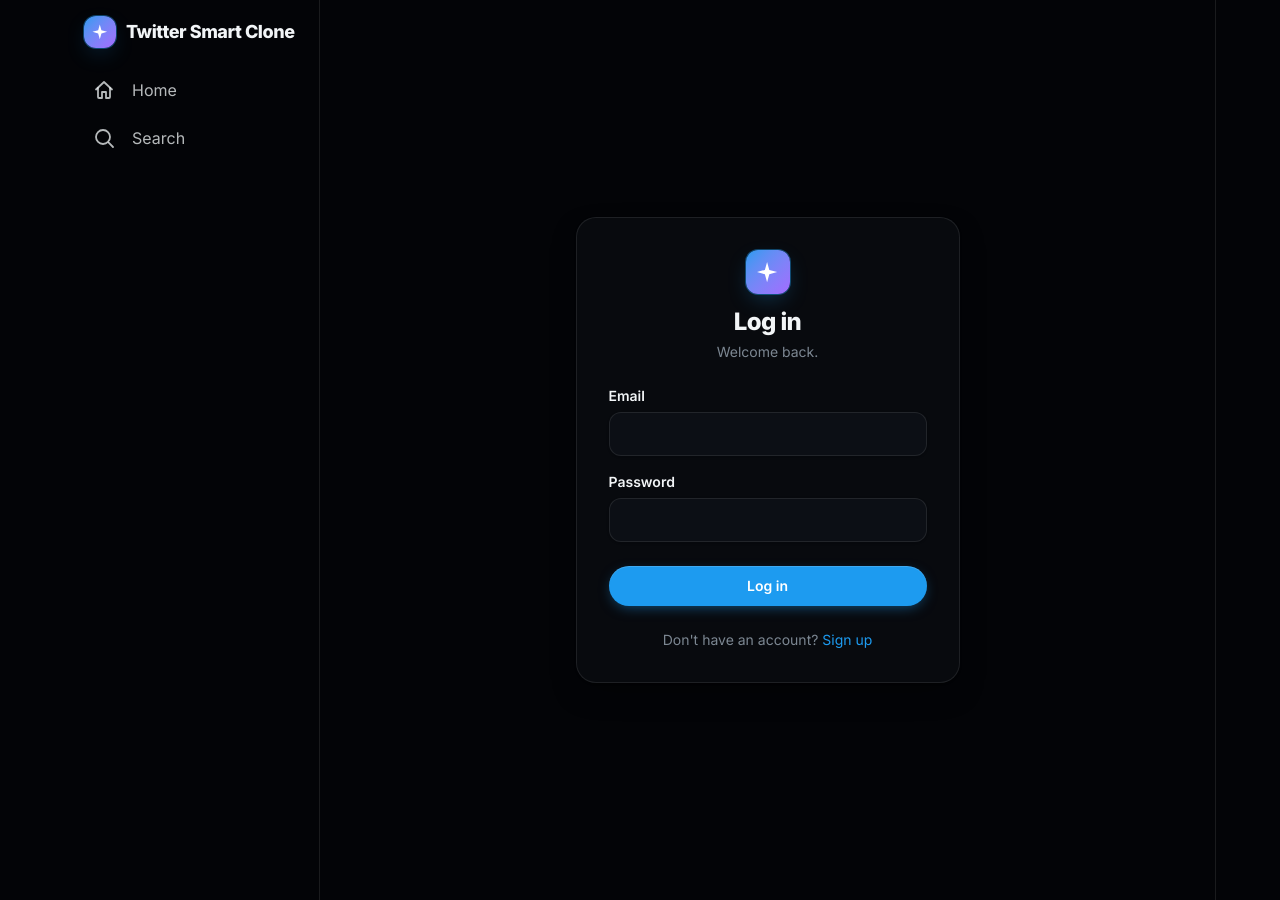
Test case: Authentication end-to-end flows › registers a new account, then logs in with the pre-filled email
Expected: the heading "Log in" is shown, x1=734 y1=307 x2=801 y2=336
Click the link "Sign up" at (847, 640), box x1=822 y1=631 x2=872 y2=648
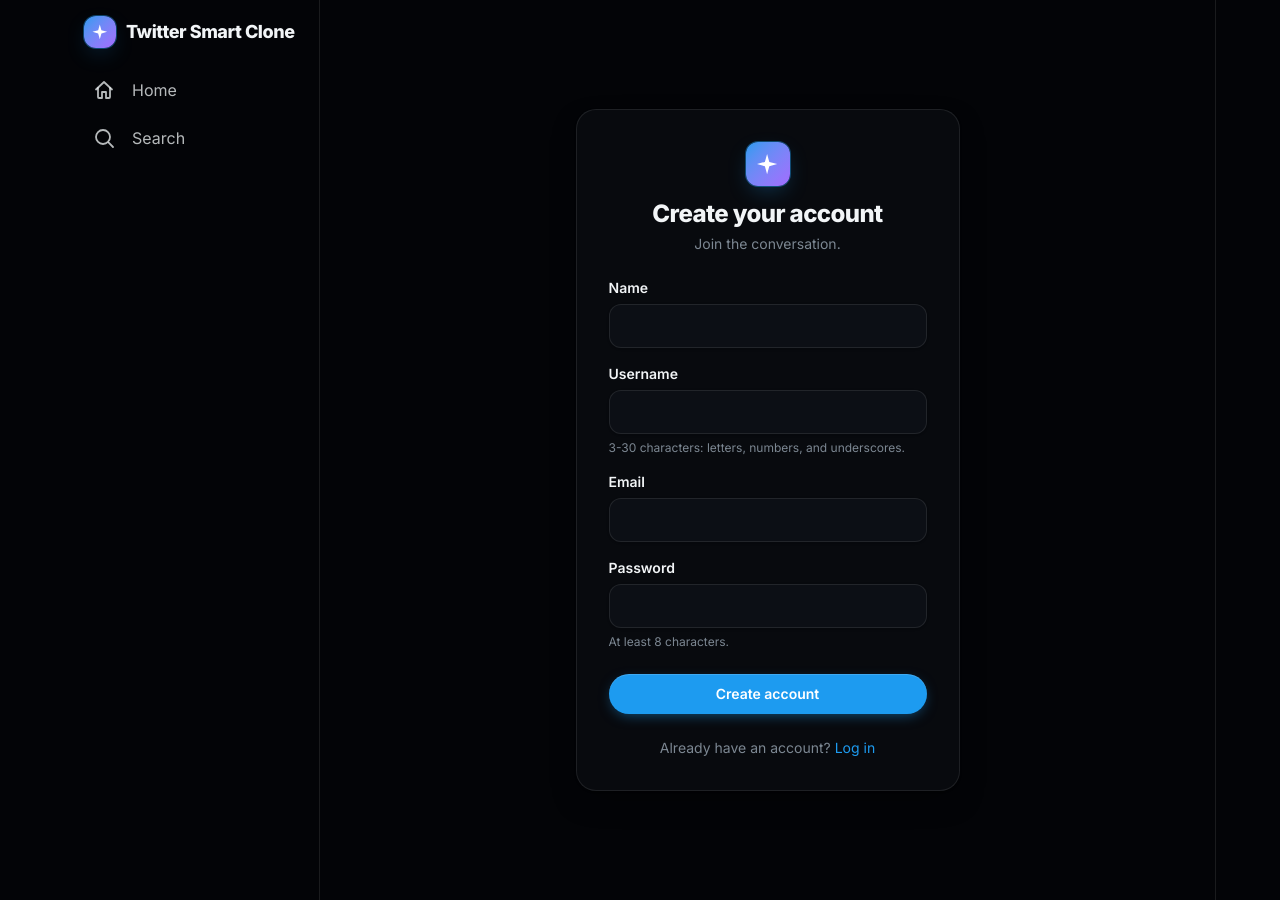
Now the heading "Create your account" is shown, box x1=652 y1=198 x2=883 y2=230
Type "Ada Lovelace" into the field labelled "Name" at (768, 326), box x1=608 y1=304 x2=926 y2=348
Type "ada" into the field labelled "Username" at (768, 412), box x1=608 y1=390 x2=926 y2=434
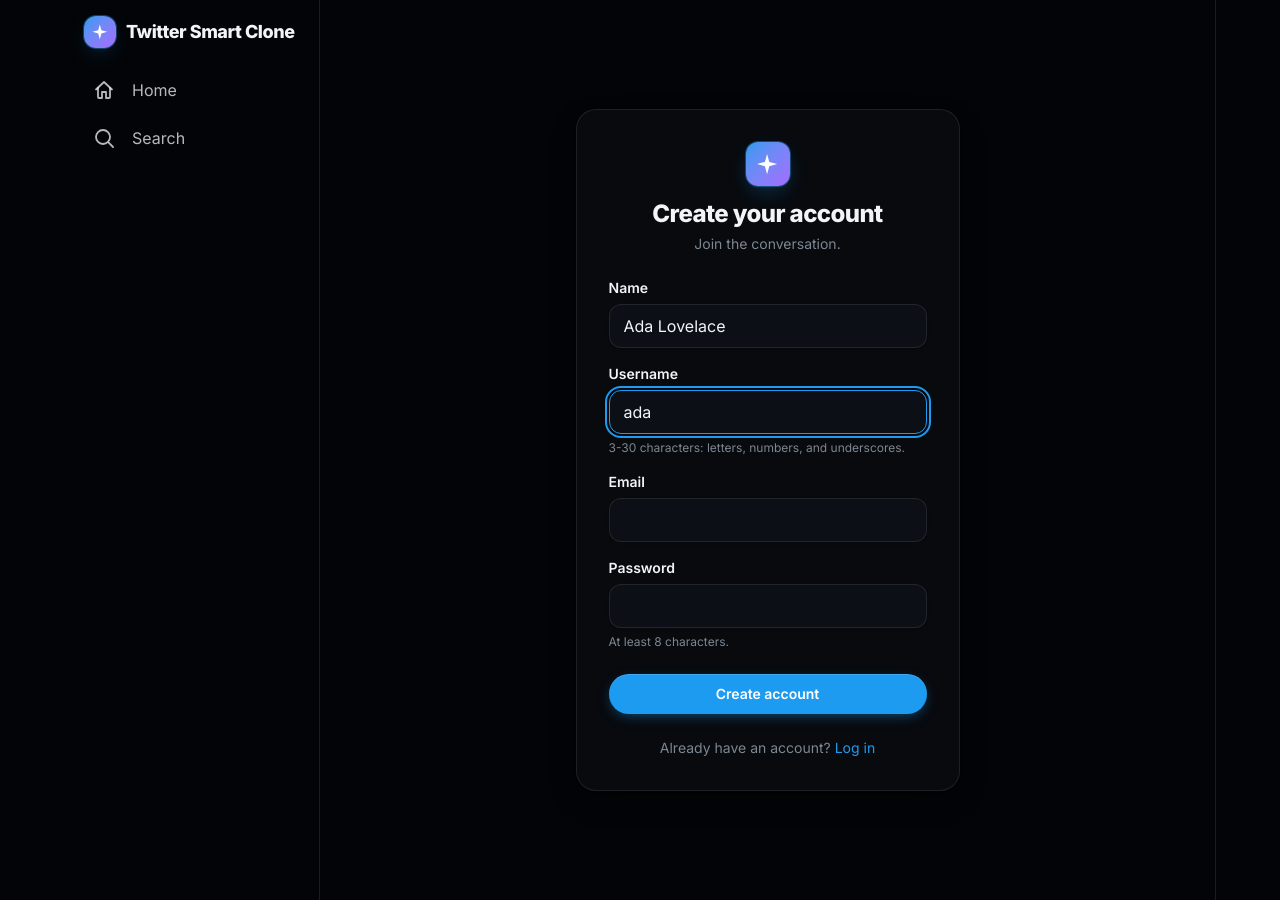
Type "ada@example.com" into the field labelled "Email" at (768, 520), box x1=608 y1=498 x2=926 y2=542
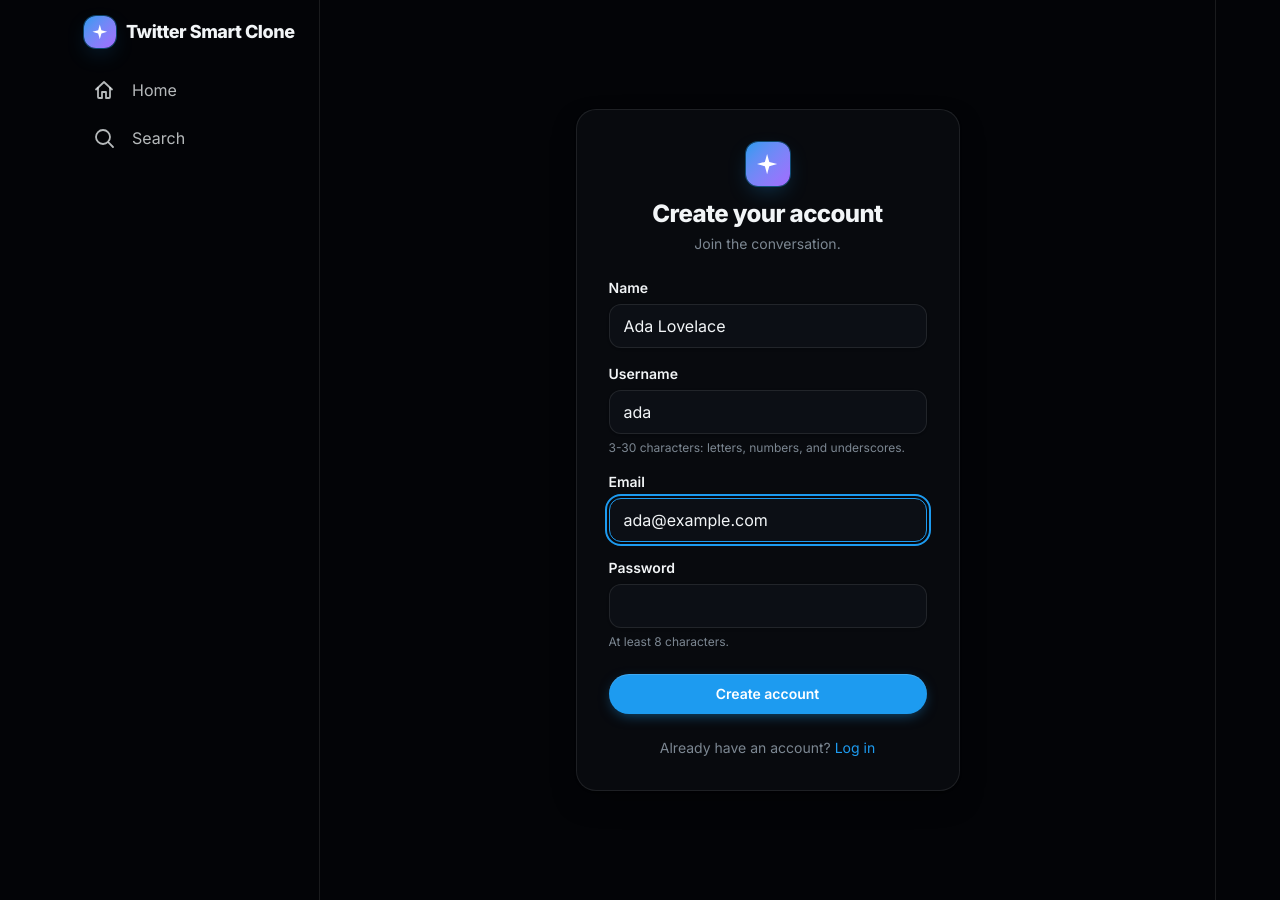
Type "correct horse battery staple" into the password field labelled "Password" at (768, 606), box x1=608 y1=584 x2=926 y2=628
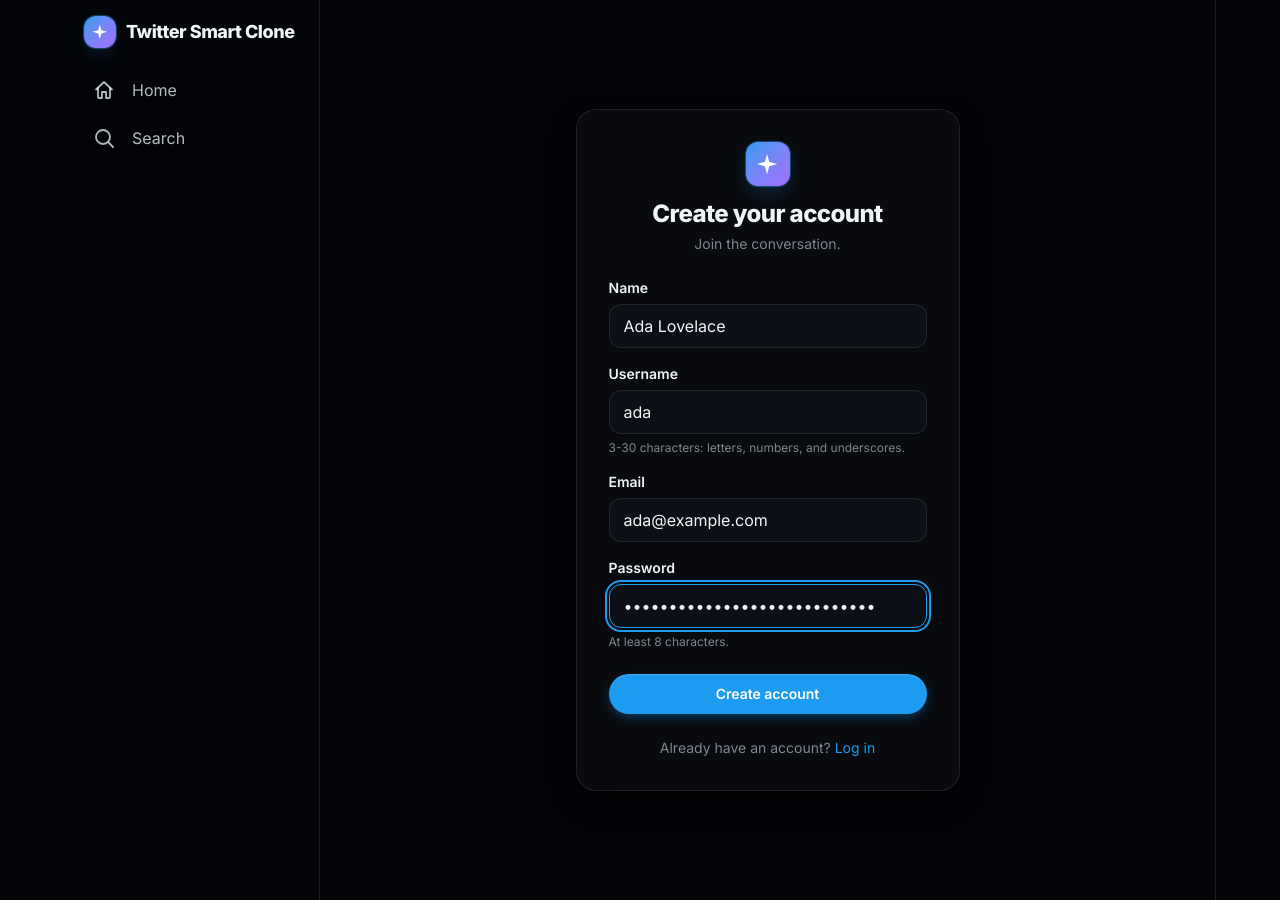
Click the button "Create account" at (768, 694), box x1=608 y1=674 x2=926 y2=714
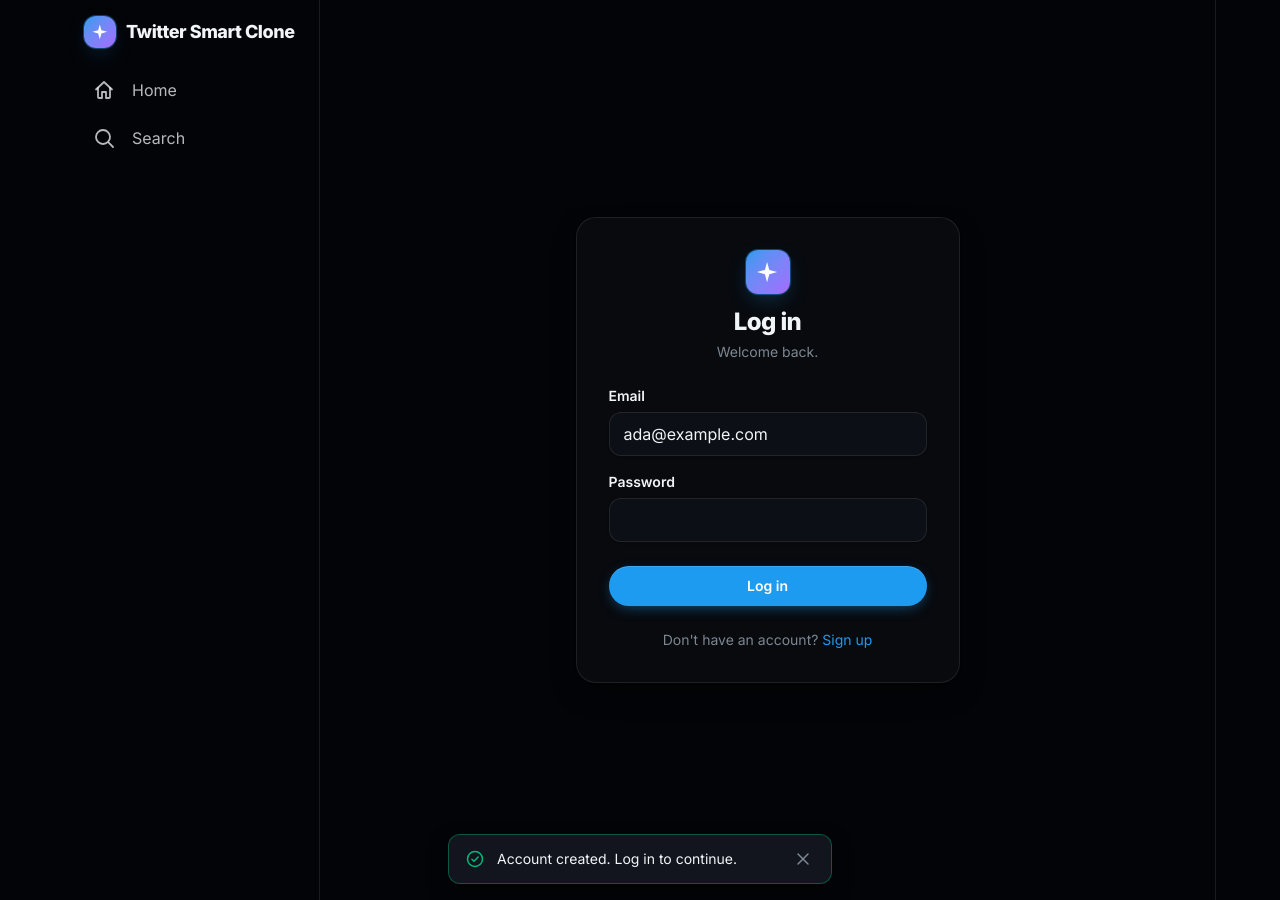
Now the heading "Log in" is shown, box x1=734 y1=307 x2=801 y2=336
Now the text "Account created. Log in to continue." is shown, box x1=497 y1=849 x2=779 y2=869
Now the field labelled "Email" holds "ada@example.com", box x1=608 y1=412 x2=926 y2=456
Type "correct horse battery staple" into the password field labelled "Password" at (768, 520), box x1=608 y1=498 x2=926 y2=542
Click the button "Log in" at (768, 586), box x1=608 y1=566 x2=926 y2=606
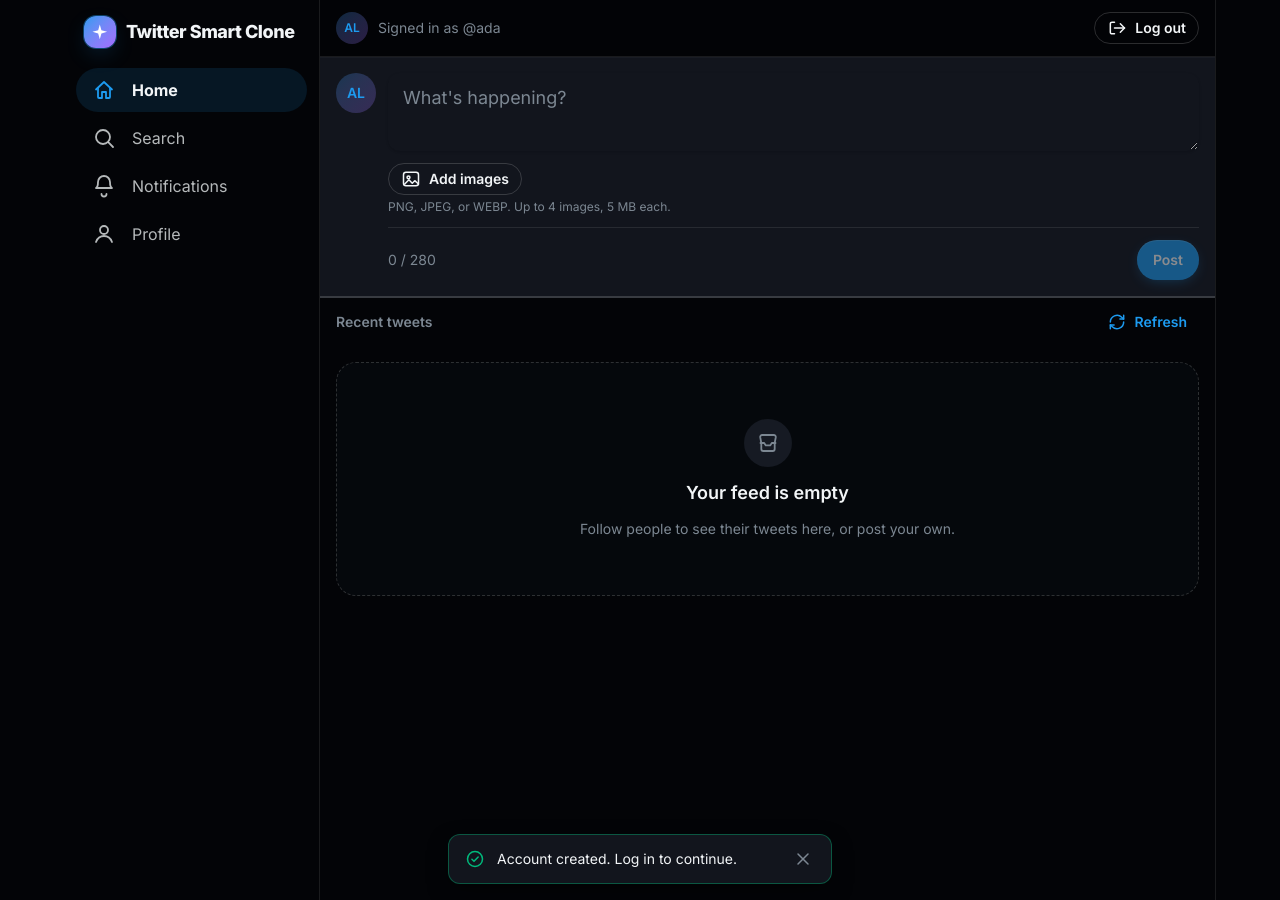
Now the text "Signed in as @ada" is shown, box x1=378 y1=18 x2=500 y2=38
